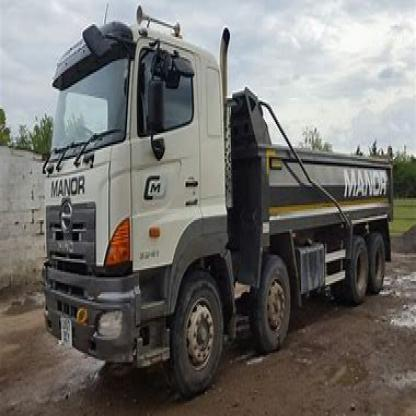dump_truck: (43, 15, 400, 394)
